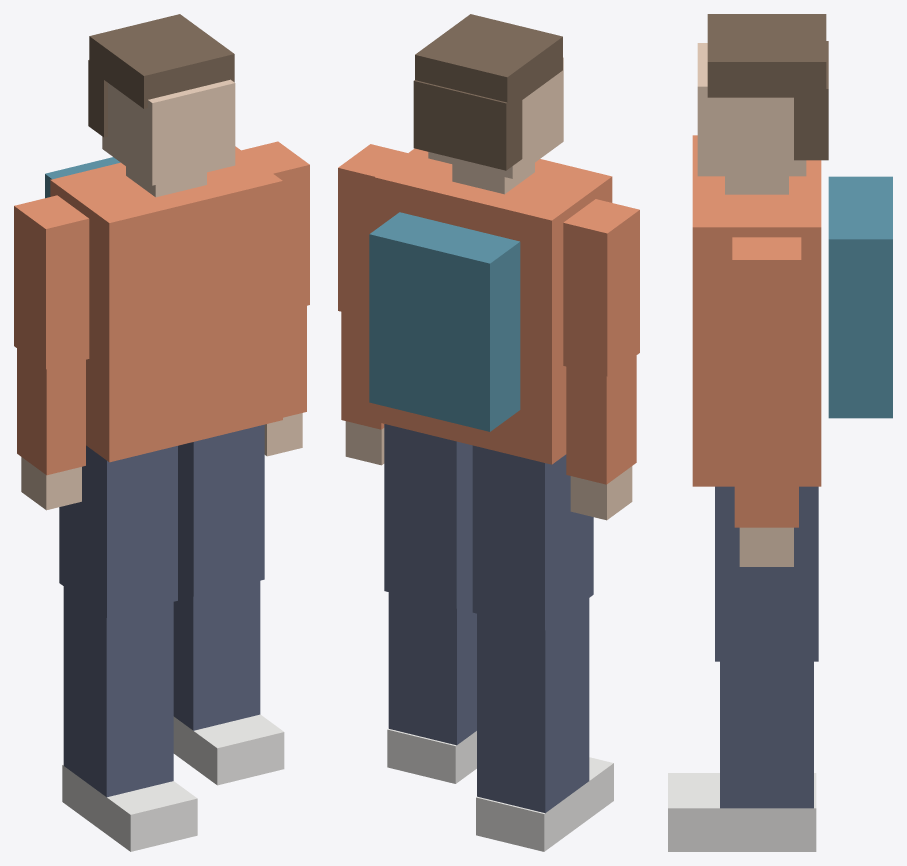
Rendered from walker-0.glb.
3 views of the same model, side by side, from view 1: azimuth 30°, elevation 25°; view 2: azimuth 150°, elevation 25°; view 3: azimuth 270°, elevation 25° (orthographic). The views are drawn at different scales.
Bounding box in the file's own units: 0.67 × 1.83 × 0.455.
